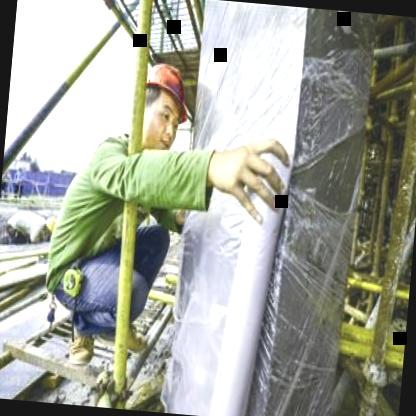helmet: (131, 51, 197, 159)
